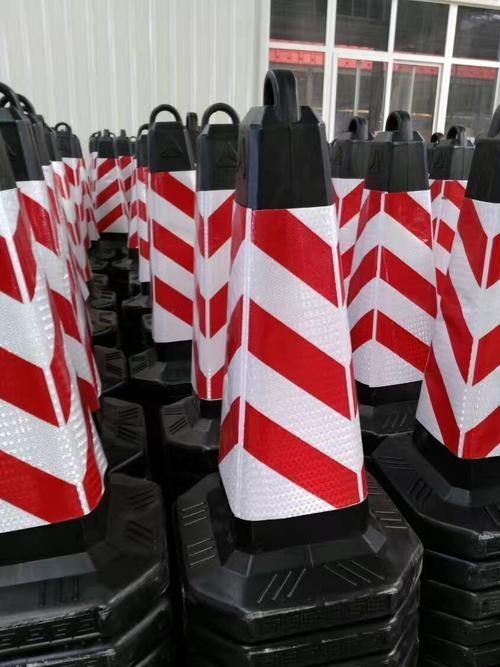cone_barrel: (200, 81, 390, 591), (403, 115, 499, 532), (352, 110, 441, 421), (139, 102, 198, 372), (188, 109, 234, 423), (93, 129, 129, 238)
